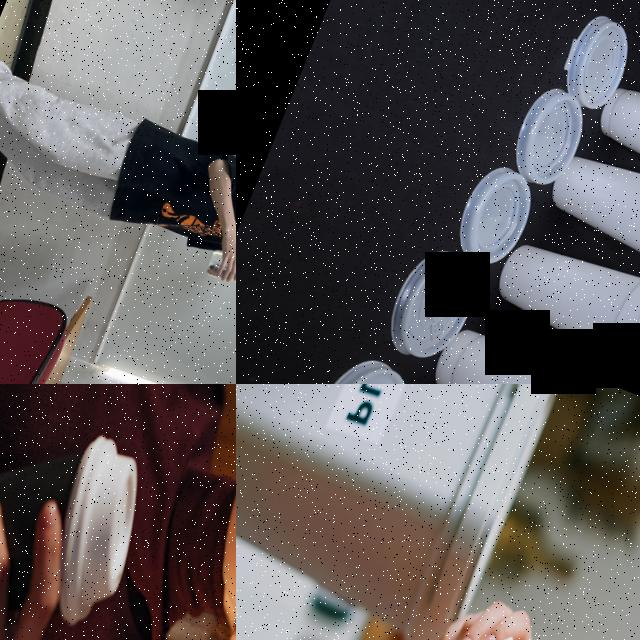bottle: (238, 553, 611, 640), (204, 243, 236, 300)
cup: (0, 384, 170, 640), (484, 216, 640, 380), (416, 311, 640, 384), (539, 134, 640, 283), (587, 63, 640, 197)
